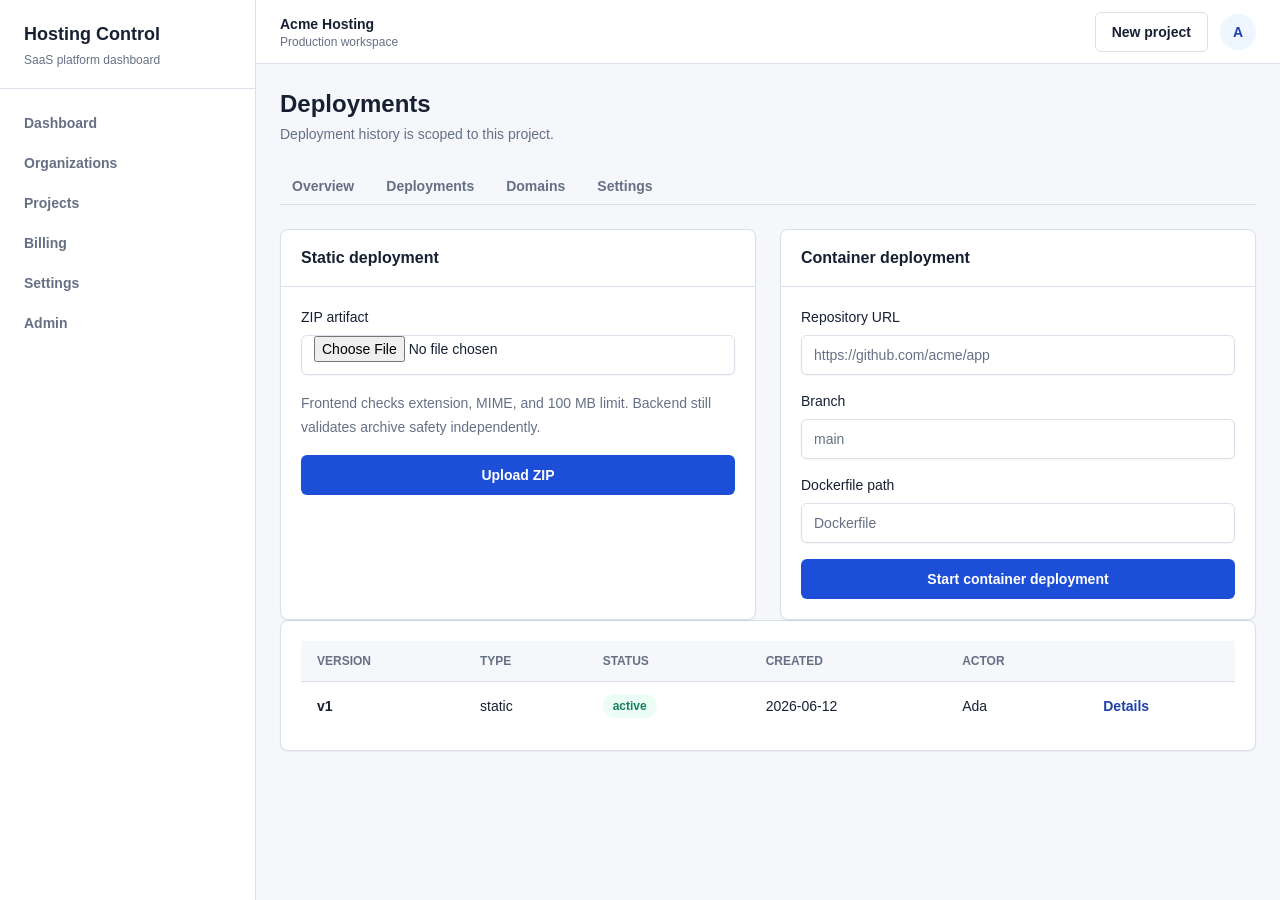
Test: ProjectDeploymentsPage › validates container deployment required fields
This screenshot has width=1280, height=900.
Click the button "Start container deployment" at (1018, 579), box [801,559,1235,599]
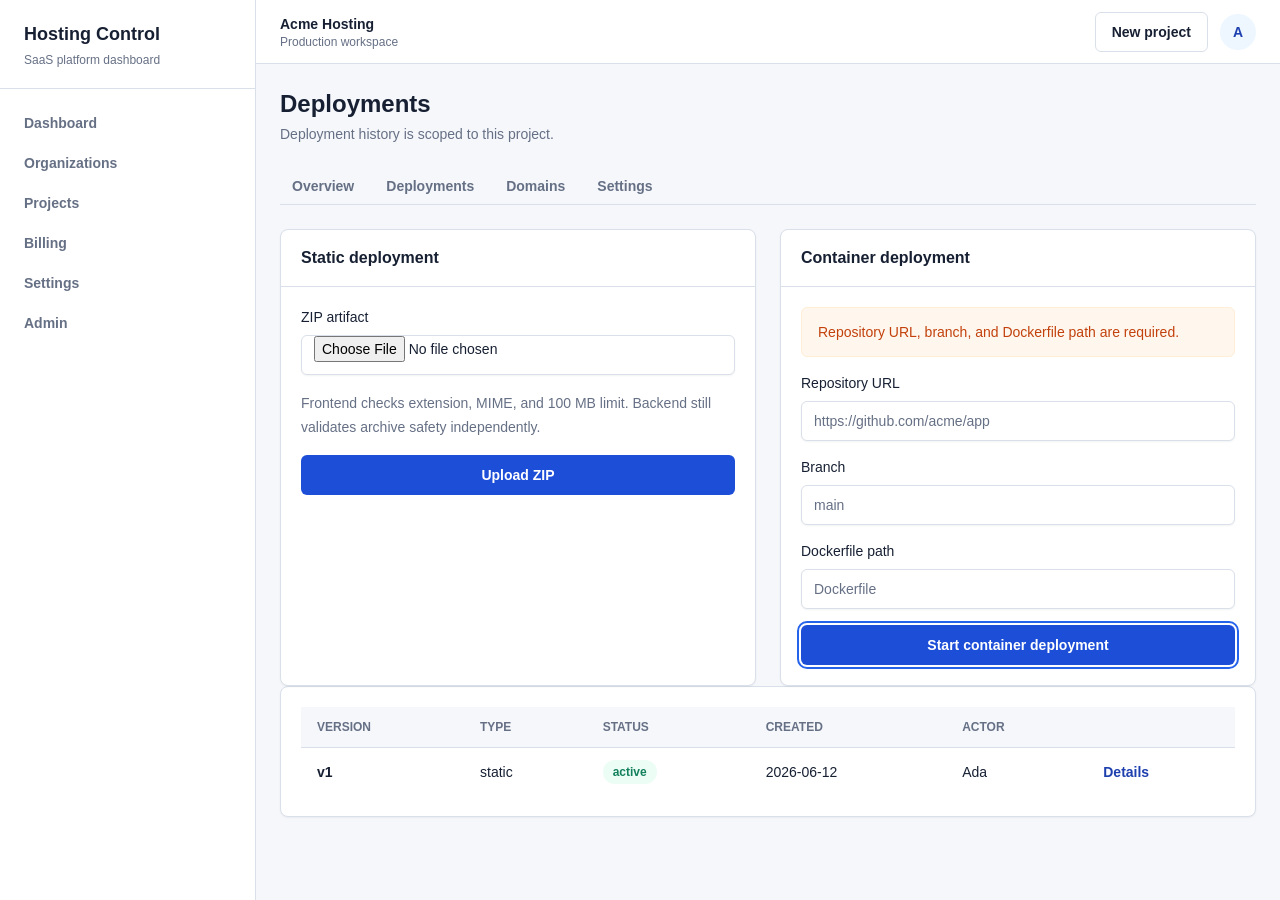
Expected: the text "Repository URL, branch, and Dockerfile path are required." is shown, [801,307,1235,357]
